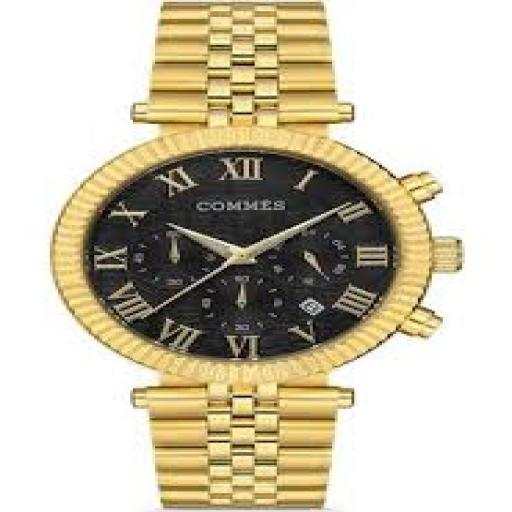KolSaati: (53, 2, 476, 506)
